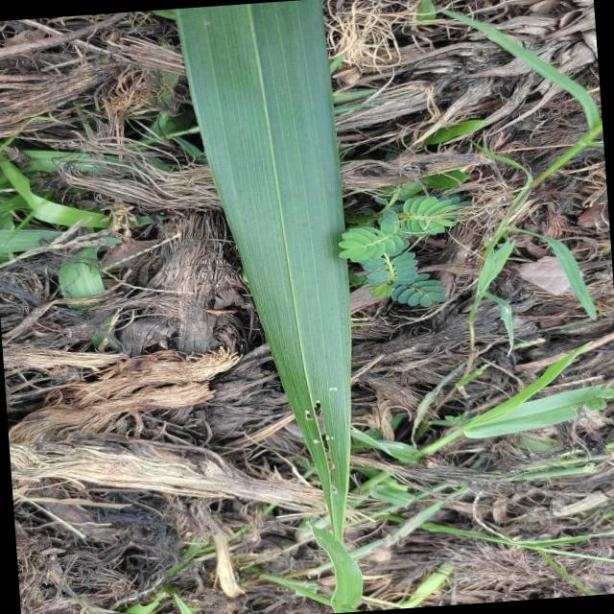Boron: (176, 0, 368, 608)
